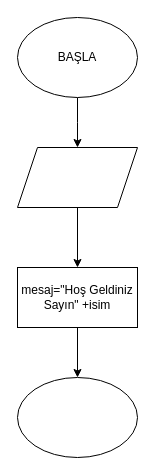
Some shapes in this 155 by 475 pixel diagram are drawn without their labels. Here are the shapes that lost their labels. From the top down, the centre of each, then its label:
(x=77, y=177): Kullanıcıdan "isim" verisini al
(x=77, y=417): DUR
